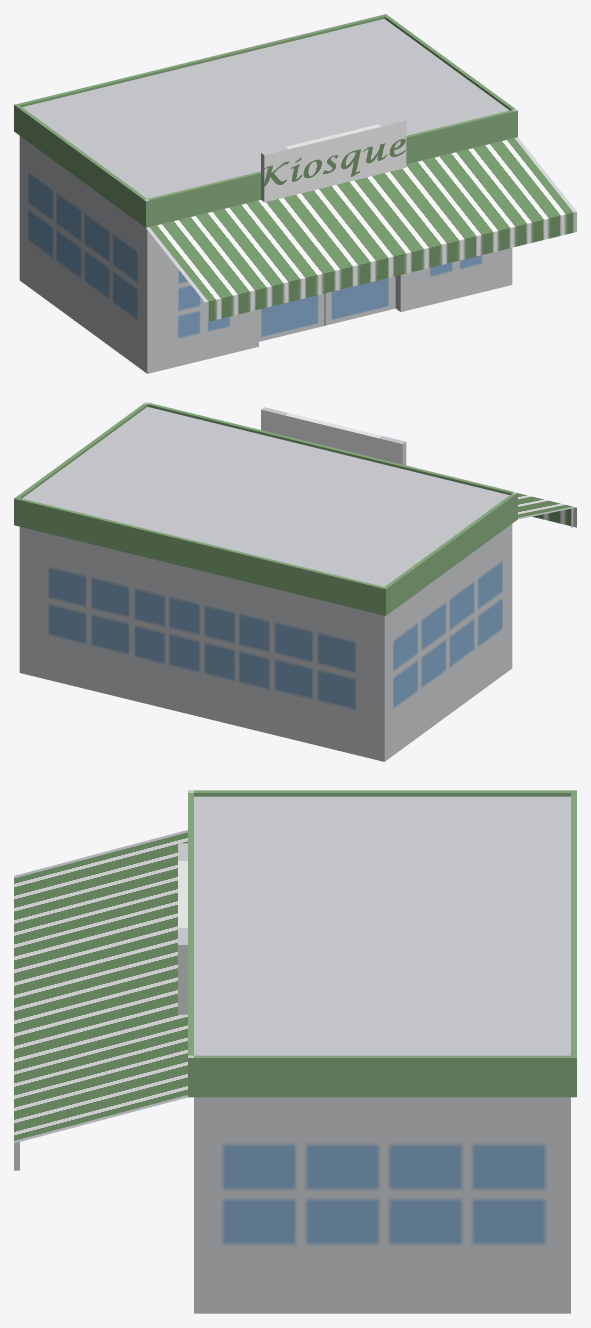
File: kiosque.glb
The picture shows the model from 3 angles, top to bottom: view 1: azimuth 30°, elevation 25°; view 2: azimuth 150°, elevation 25°; view 3: azimuth 270°, elevation 25°; orthographic projection. The views are drawn at different scales.
Parts seen in each view (by area): view 1: kiosque; view 2: kiosque; view 3: kiosque.
Boxes of the visible parts, left/top/right/bottom form: kiosque: left=14, top=14, right=576, bottom=373; kiosque: left=14, top=402, right=576, bottom=761; kiosque: left=14, top=790, right=576, bottom=1313.
Bounding box in the file's own units: 5.85 × 2.94 × 5.2.
Materials: 1 (1 with a texture image).
